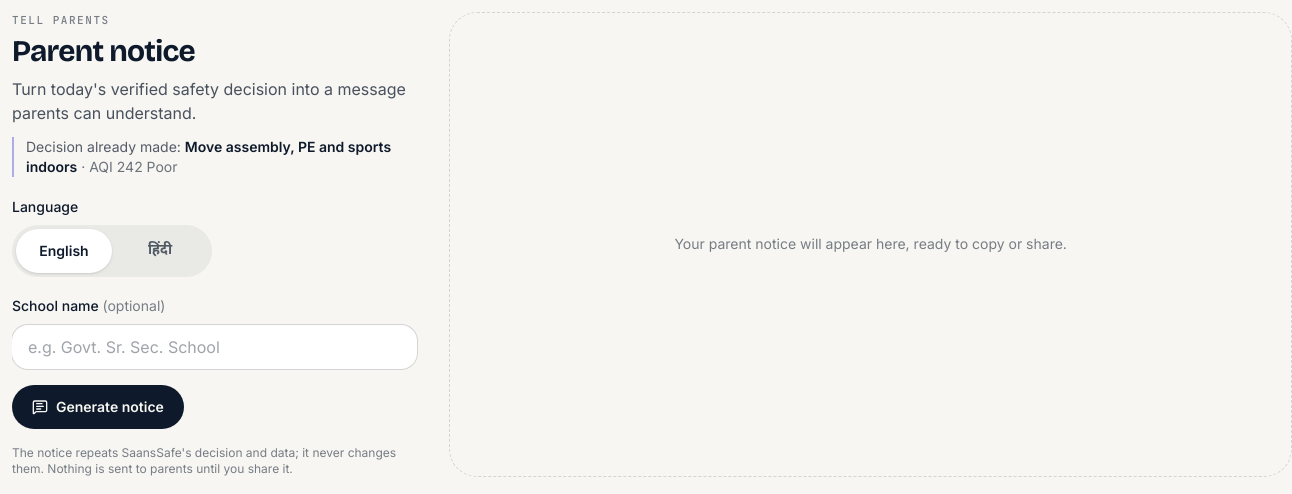
Test: ParentNotice › explains when the deployed API has no notice endpoint yet
The width and height of the screenshot is (1292, 494).
Click the button "Generate notice" at (98, 406), box [12,384,184,428]
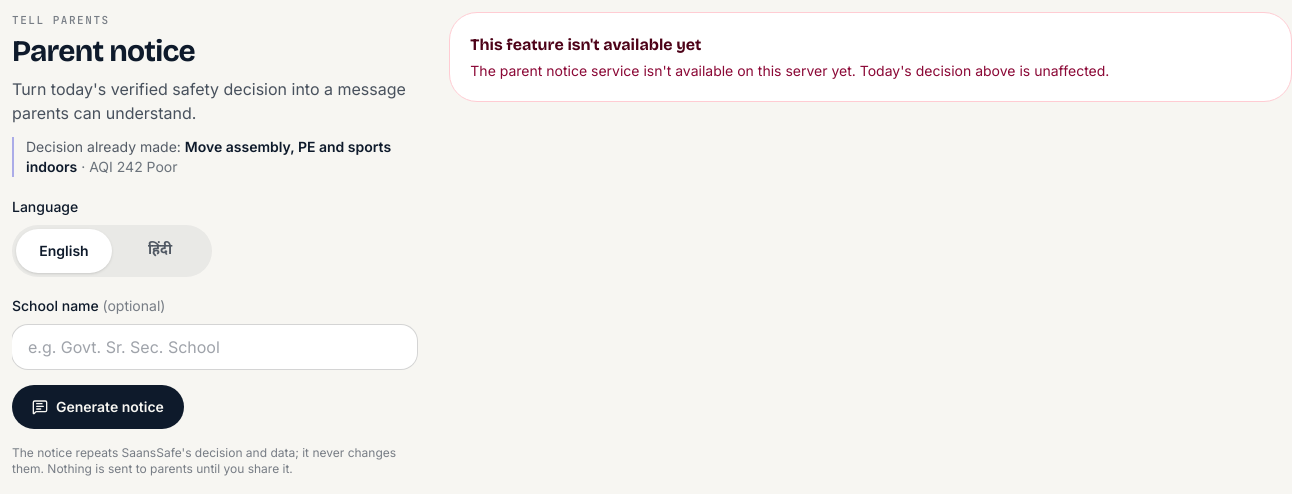
Result: the message shows "isn't available on this server yet" at [470,62,856,79]
